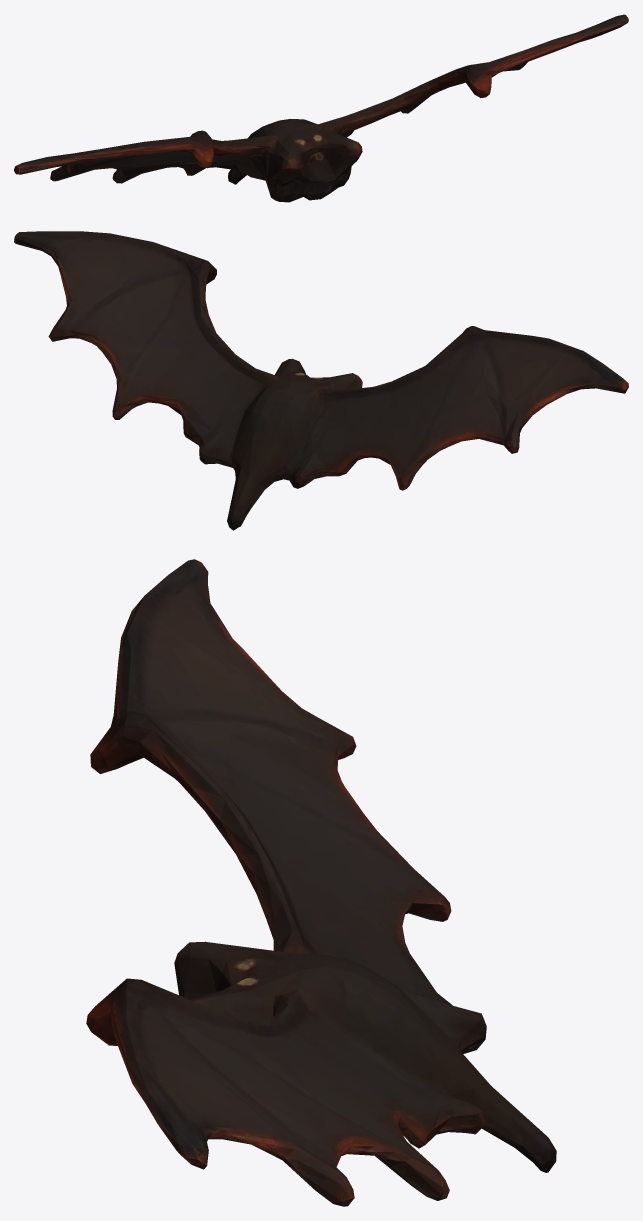
File: bat_flying.glb
3 renders of one model, top to bottom at view 1: azimuth 30°, elevation 25°; view 2: azimuth 150°, elevation 25°; view 3: azimuth 270°, elevation 25°, orthographic. The views are drawn at different scales.
Parts seen in each view (by area): view 1: geometry_0; view 2: geometry_0; view 3: geometry_0.
Part boxes in pixels (bbox=[...]): geometry_0: bbox=[14, 14, 628, 202]; geometry_0: bbox=[14, 231, 628, 530]; geometry_0: bbox=[86, 559, 556, 1206].
Bounding box in the file's own units: 1 × 0.2609 × 0.333.
Materials: 1 (1 with a texture image).
